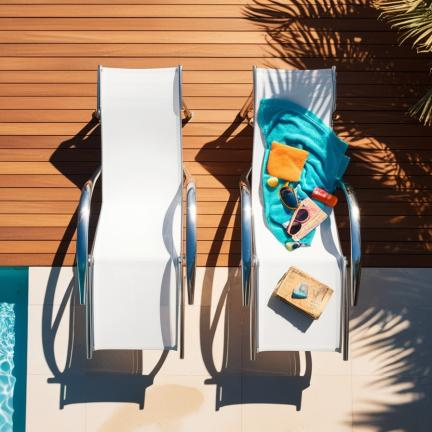empty chair: (77, 66, 196, 358)
occupied chair: (240, 68, 359, 359)
